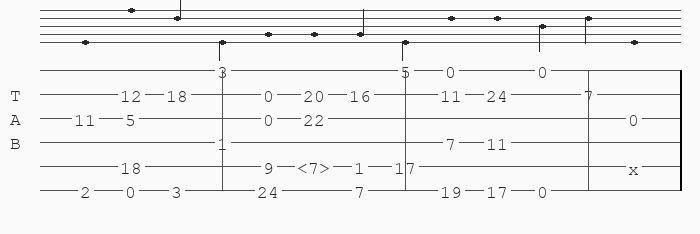0: (125, 183, 140, 198), (263, 111, 278, 126), (263, 87, 278, 102), (445, 63, 460, 78), (537, 63, 552, 78), (537, 183, 552, 198), (628, 111, 643, 126)
1: (217, 135, 232, 150), (354, 159, 369, 174)
11: (74, 111, 100, 126), (440, 87, 466, 102), (486, 135, 512, 150)
12: (120, 87, 146, 102)
16: (349, 87, 375, 102)
17: (394, 159, 420, 174), (486, 183, 512, 198)
18: (120, 159, 146, 174), (166, 87, 192, 102)
19: (440, 183, 466, 198)
2: (80, 183, 95, 198)
20: (303, 87, 329, 102)
22: (303, 111, 329, 126)
24: (257, 183, 283, 198), (486, 87, 512, 102)
3: (171, 183, 186, 198), (217, 63, 232, 78)
5: (125, 111, 140, 126), (400, 63, 415, 78)
7: (354, 183, 369, 198), (445, 135, 460, 150), (583, 87, 598, 102)
9: (263, 159, 278, 174)
harmonic: (297, 159, 334, 174)
x: (628, 160, 643, 172)
